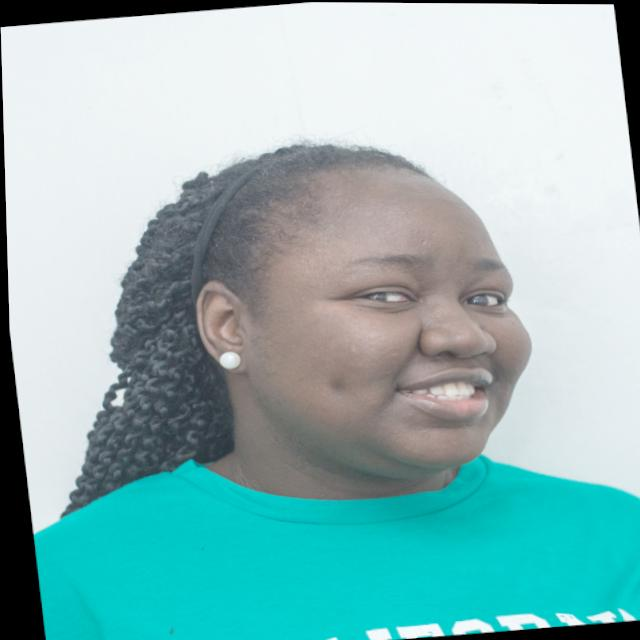happy: (157, 120, 558, 497)
